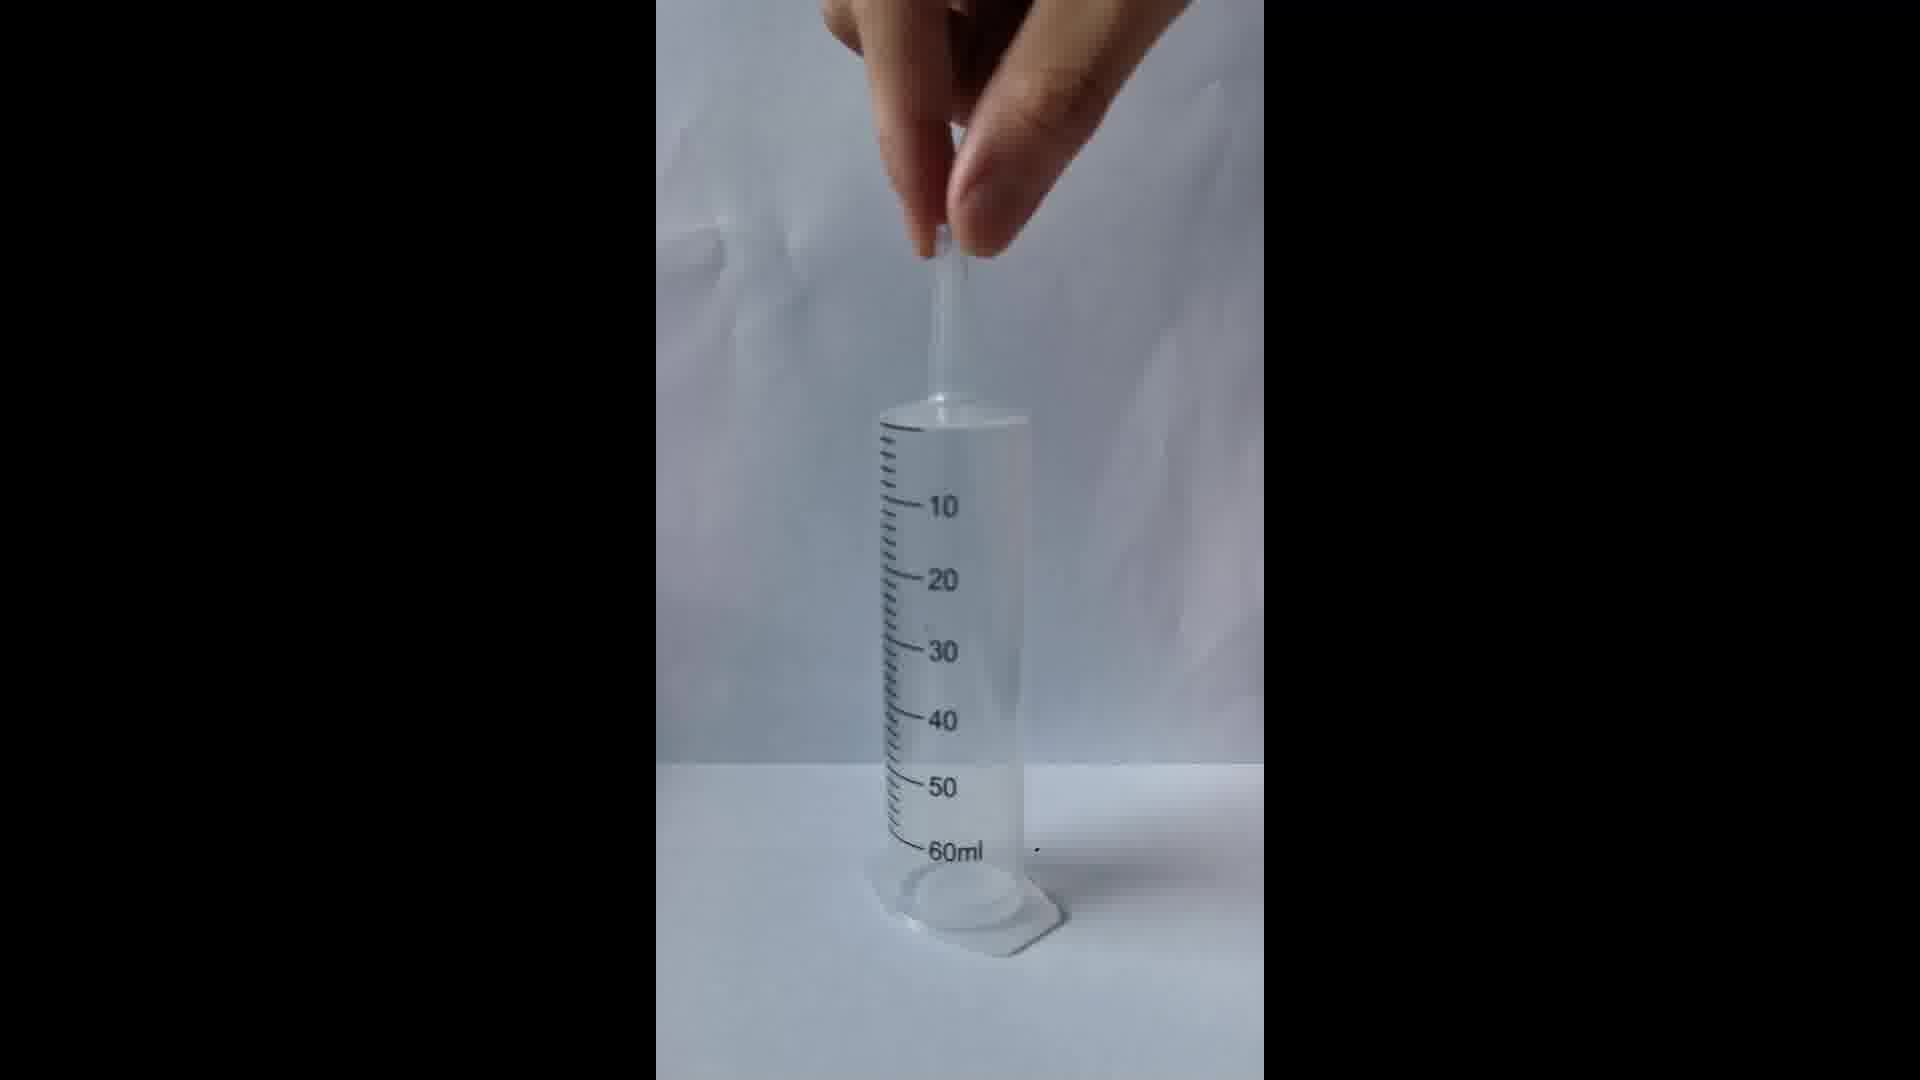syringe: (861, 260, 1077, 960)
